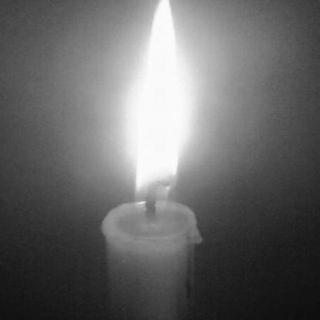Fire: (80, 1, 238, 220)
